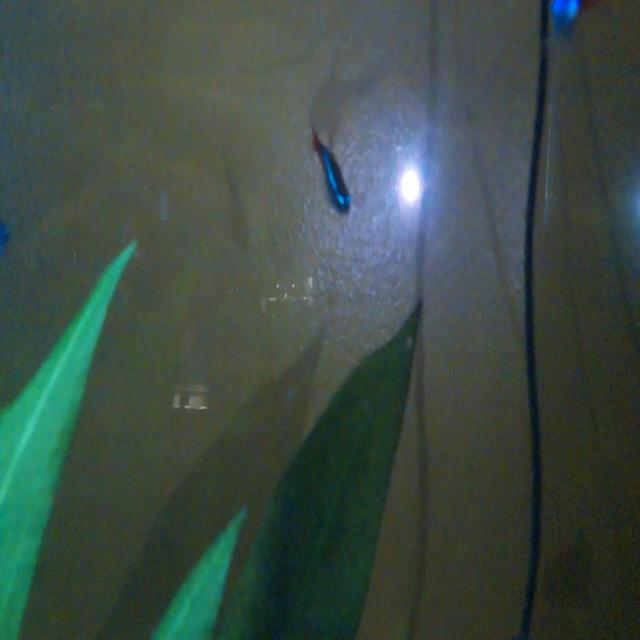fish: (294, 124, 361, 220)
